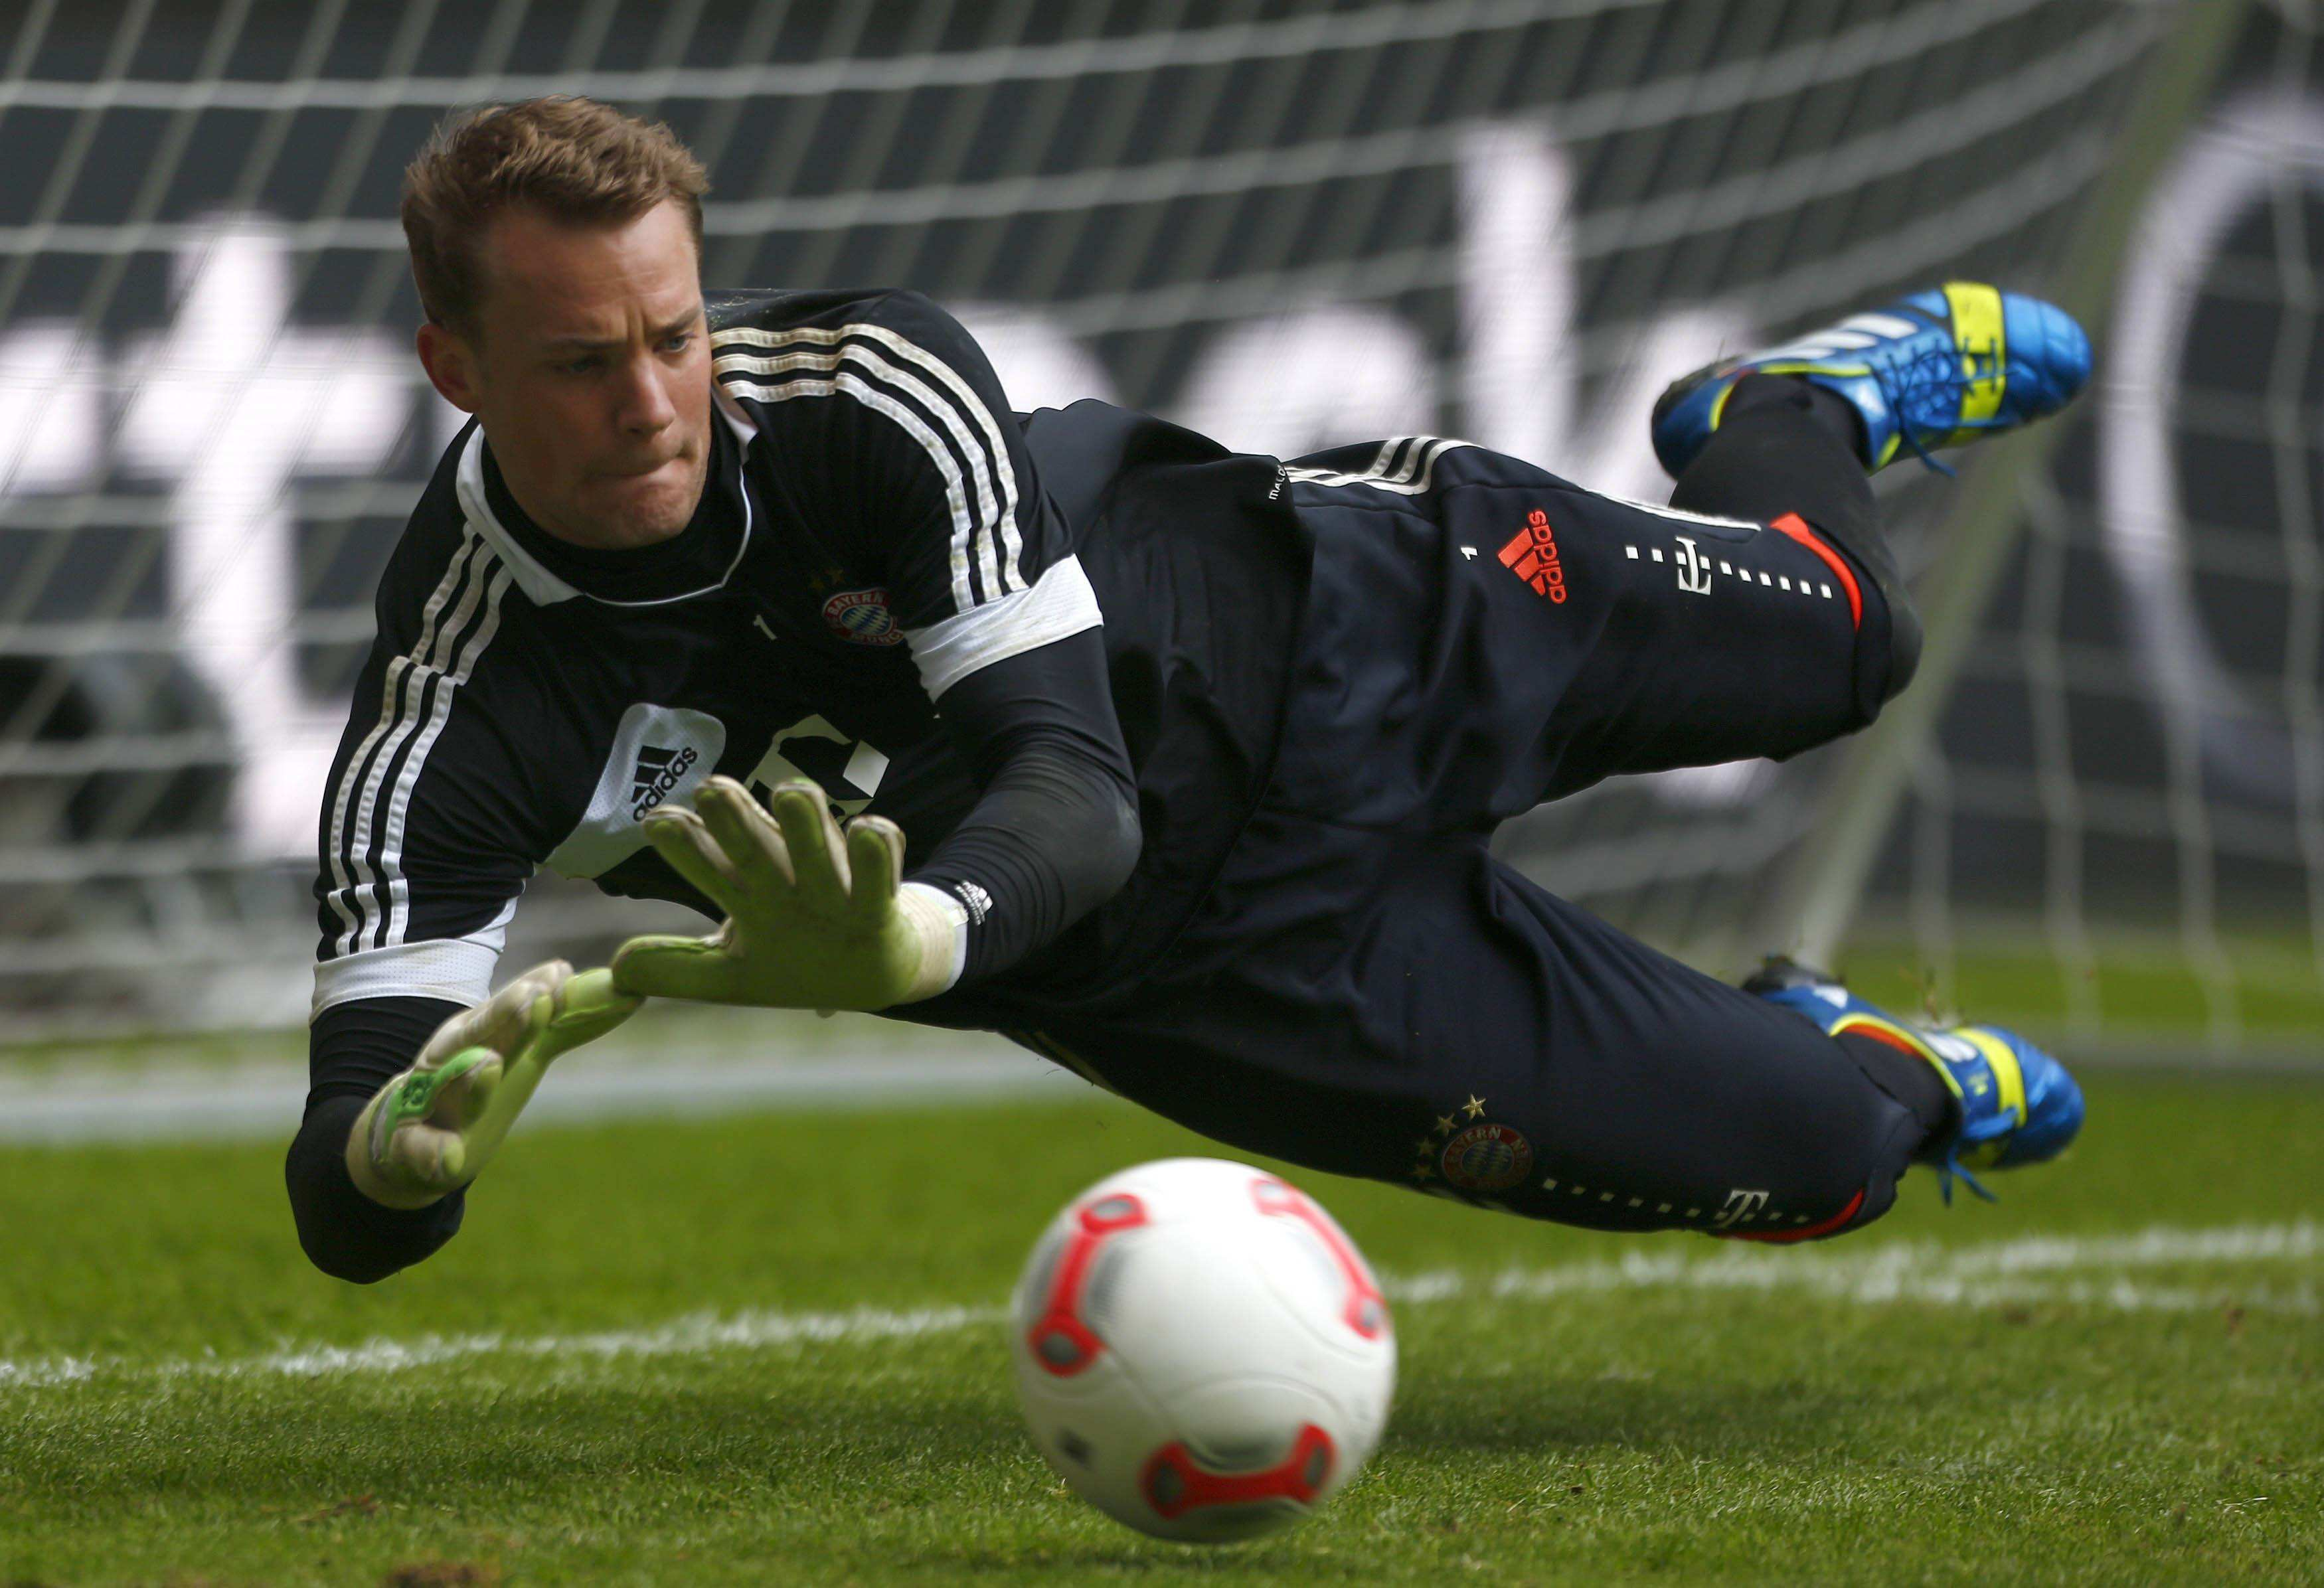no-phone: (622, 763, 931, 1025), (351, 957, 639, 1189)
